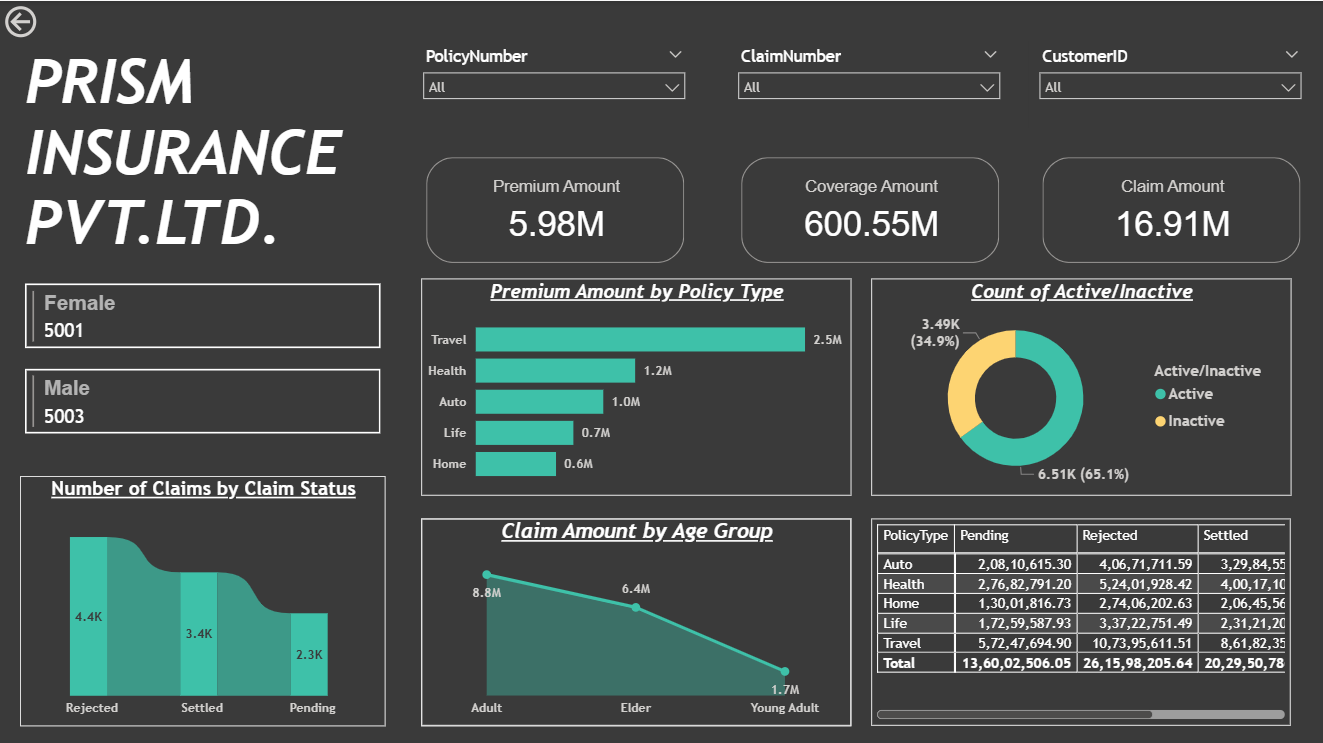

Layout of this report page (visuals, bound fields, positions):
{"tool":"powerbi","page":{"name":"Page 1","canvas":[1280,720],"ordinal":0},"visuals":[{"type":"slicer","fields":{"Values":["InsuranceData.PolicyNumber"]},"box":[397.9,38.4,273.1,83.7],"z":0},{"type":"slicer","fields":{"Values":["InsuranceData.ClaimNumber"]},"box":[702.6,38.4,273.1,83.7],"z":1000},{"type":"slicer","fields":{"Values":["InsuranceData.CustomerID"]},"box":[993.5,38.4,273.1,83.7],"z":2000},{"type":"textbox","box":[19.2,38.4,378.7,237.4],"z":3000},{"type":"cardVisual","fields":{"Data":["Sum(InsuranceData.PremiumAmount)"]},"box":[406.2,145.5,259.3,112.5],"z":4000},{"type":"cardVisual","fields":{"Data":["Sum(InsuranceData.CoverageAmount)"]},"box":[710.8,145.5,259.3,112.5],"z":5000},{"type":"cardVisual","fields":{"Data":["Sum(InsuranceData.ClaimAmount)"]},"box":[1001.7,145.5,259.3,112.5],"z":6000},{"type":"multiRowCard","fields":{"Values":["InsuranceData.Gender","CountNonNull(InsuranceData.Gender)"]},"box":[19.2,267.6,352.7,182.5],"z":7000},{"type":"actionButton","box":[0,0,100,40],"z":8000},{"type":"ribbonChart","title":"Number of Claims by Claim Status","fields":{"Category":["InsuranceData.ClaimStatus"],"Y":["CountNonNull(InsuranceData.ClaimStatus)"]},"box":[19.2,458.3,352.7,241.5],"z":9000},{"type":"barChart","title":"Premium Amount by Policy Type","fields":{"Category":["InsuranceData.PolicyType"],"Y":["Sum(InsuranceData.PremiumAmount)"]},"box":[406.6,267.8,415,209.9],"z":10000},{"type":"lineChart","title":"Claim Amount by Age Group","fields":{"Category":["InsuranceData.Age Group"],"Y":["Sum(InsuranceData.ClaimAmount)"]},"box":[406.6,499.5,415,200.3],"z":11000},{"type":"donutChart","title":"Count of Active/Inactive","fields":{"Category":["InsuranceData.Active/Inactive"],"Y":["CountNonNull(InsuranceData.Active/Inactive)"]},"box":[840.9,267.8,405.4,209.9],"z":12000},{"type":"pivotTable","fields":{"Rows":["InsuranceData.PolicyType"],"Values":["Sum(InsuranceData.CoverageAmount)"],"Columns":["InsuranceData.ClaimStatus"]},"box":[841,499,405,200],"z":13000}]}

Visuals, with their boxes on the page's 1280x720 design canvas (x1, y1, x2, y2). These are canvas units, not pixel positions in the 1323x743 screenshot, which may show the page scaled, cropped or inside an application window:
slicer - InsuranceData.PolicyNumber: [398,38,671,122]
slicer - InsuranceData.ClaimNumber: [703,38,976,122]
slicer - InsuranceData.CustomerID: [994,38,1267,122]
textbox: [19,38,398,276]
cardVisual - Sum(InsuranceData.PremiumAmount): [406,146,666,258]
cardVisual - Sum(InsuranceData.CoverageAmount): [711,146,970,258]
cardVisual - Sum(InsuranceData.ClaimAmount): [1002,146,1261,258]
multiRowCard - InsuranceData.Gender x CountNonNull(InsuranceData.Gender): [19,268,372,450]
actionButton: [0,0,100,40]
"Number of Claims by Claim Status" ribbonChart: [19,458,372,700]
"Premium Amount by Policy Type" barChart: [407,268,822,478]
"Claim Amount by Age Group" lineChart: [407,500,822,700]
"Count of Active/Inactive" donutChart: [841,268,1246,478]
pivotTable - InsuranceData.PolicyType x Sum(InsuranceData.CoverageAmount): [841,499,1246,699]
